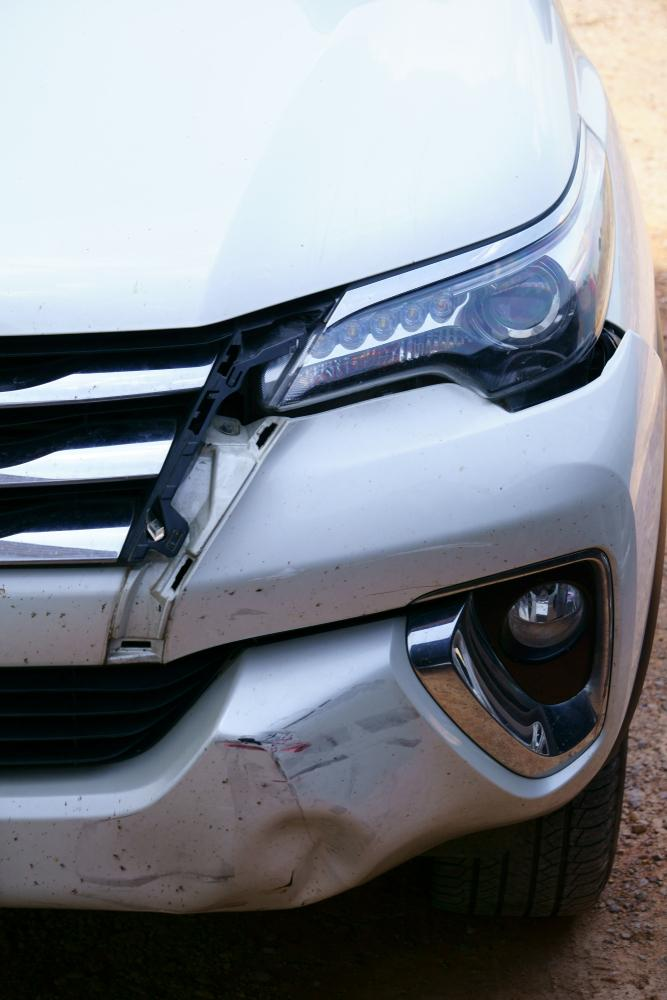dent: (82, 805, 372, 920)
scratch: (211, 680, 432, 781)
